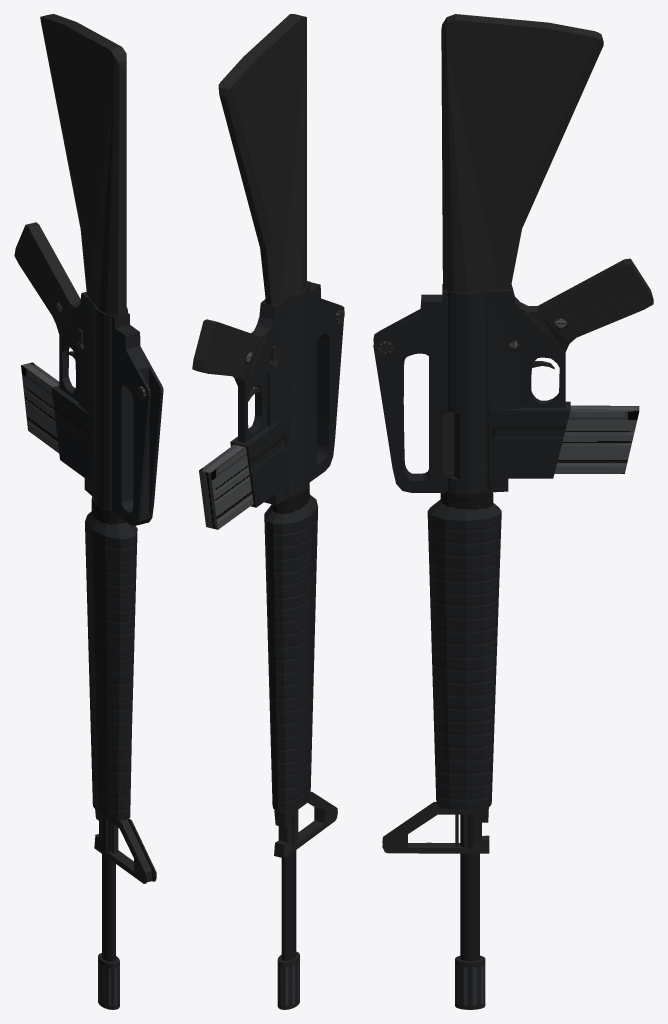
The model's file is m16980_wtf.obj.
The picture shows the model from 3 angles, left to right: view 1: azimuth 30°, elevation 25°; view 2: azimuth 150°, elevation 25°; view 3: azimuth 270°, elevation 25°; orthographic projection. The views are drawn at different scales.
Visible parts, largest first — view 1: group1, group2; view 2: group1, group2; view 3: group1, group2.
Part boxes in pixels (x1,y1,x2,y2): group1: (14, 14, 163, 1009); group2: (21, 362, 59, 453); group1: (192, 14, 344, 1009); group2: (199, 444, 253, 529); group1: (373, 14, 653, 1009); group2: (554, 405, 639, 473).
Bounding box in the file's own units: 28.19 × 660 × 169.
